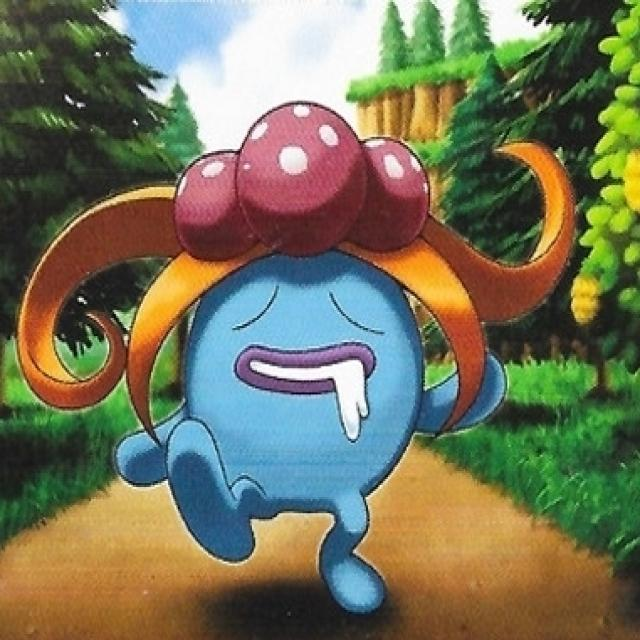Gloom: (29, 94, 574, 626)
